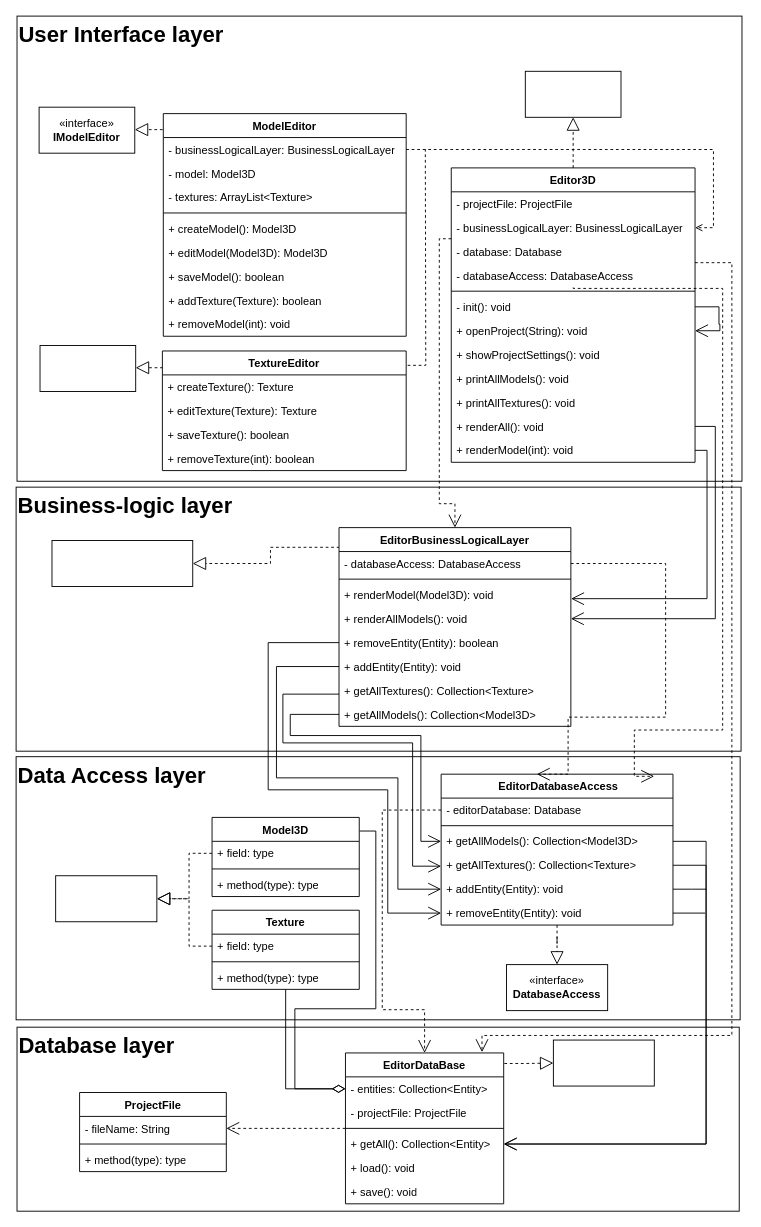
Some shapes in this 761 by 1227 pixel diagram are drawn without their labels. Each missing label, with the centre of its shape:
"«interface» BusinessLogicalLayer" goes at (122,563).
"«interface» Database" goes at (603,1062).
"«interface» Entity" goes at (106,898).
"«interface» ITextureEditor" goes at (87,368).
"«interface» UILayer" goes at (572,93).
